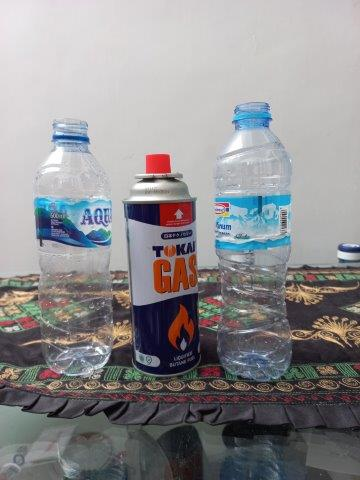botolplastik: (213, 102, 291, 383), (33, 117, 110, 375)
